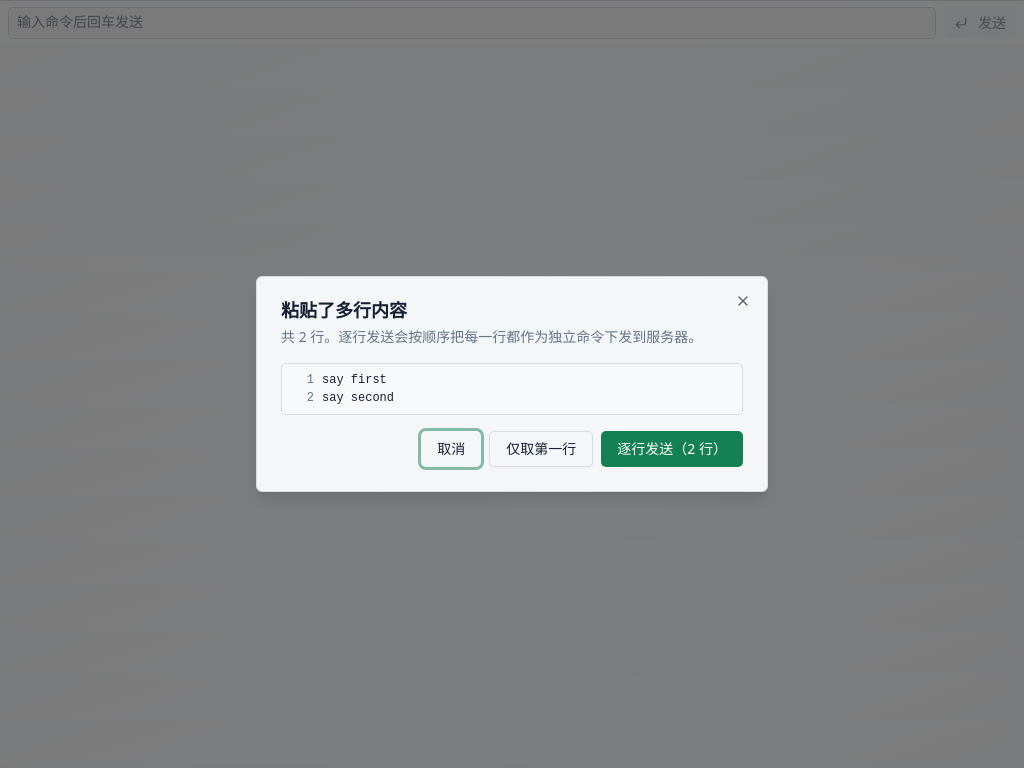
Test case: FR-416 多行粘贴保护 › 分支②仅取第一行：填入输入框且不提交
This screenshot has width=1024, height=768.
Click the button "仅取第一行".
click(541, 449)  # box [489,431,593,467]
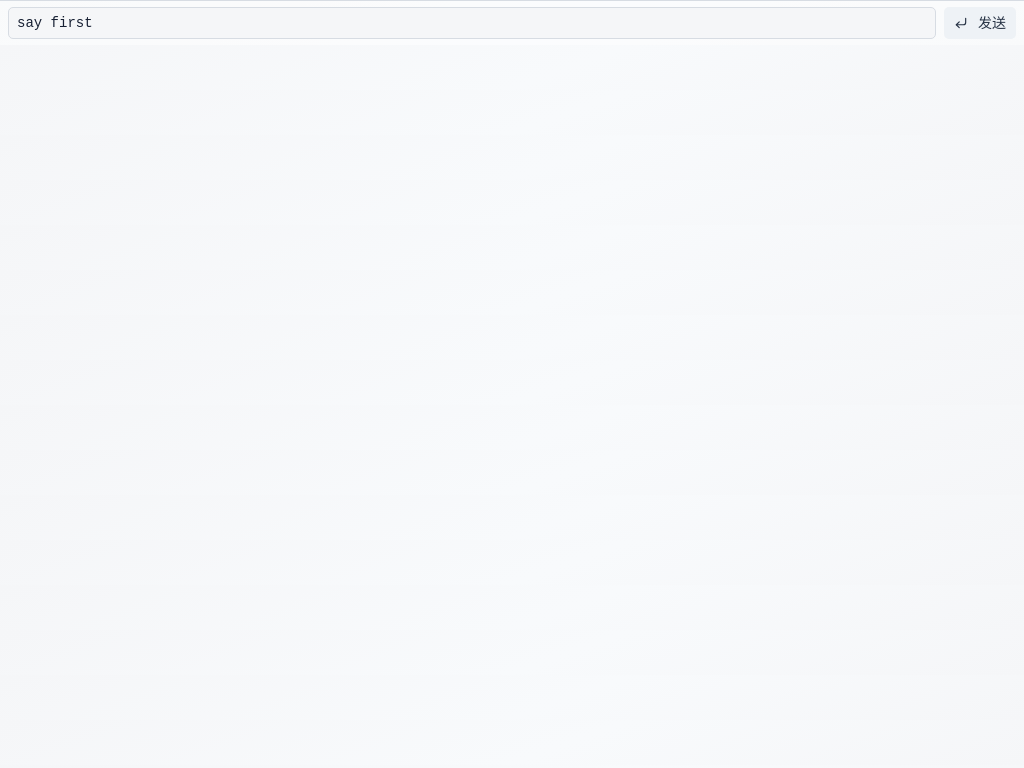
Result: the field named "控制台命令输入" holds "say first" at [8,7,936,39]
